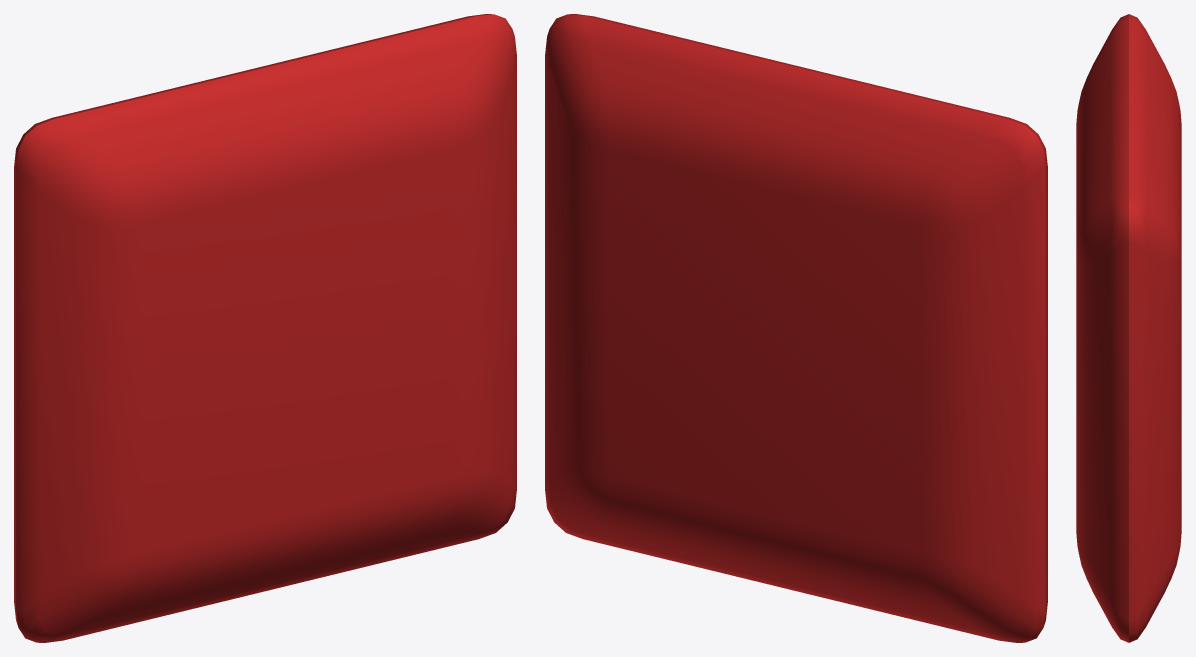
File: Obstacle_03.FBX
3 views of the same model, side by side, from view 1: azimuth 30°, elevation 25°; view 2: azimuth 150°, elevation 25°; view 3: azimuth 270°, elevation 25° (orthographic). The views are drawn at different scales.
Visible parts, largest first — view 1: Obstacle_03; view 2: Obstacle_03; view 3: Obstacle_03.
Boxes of the visible parts, x1,y1,x2,y2 form: Obstacle_03: (14, 14, 516, 642); Obstacle_03: (545, 14, 1047, 642); Obstacle_03: (1076, 14, 1181, 642).
Size of the model in its own units: 33.57 by 33.57 by 7.24.
